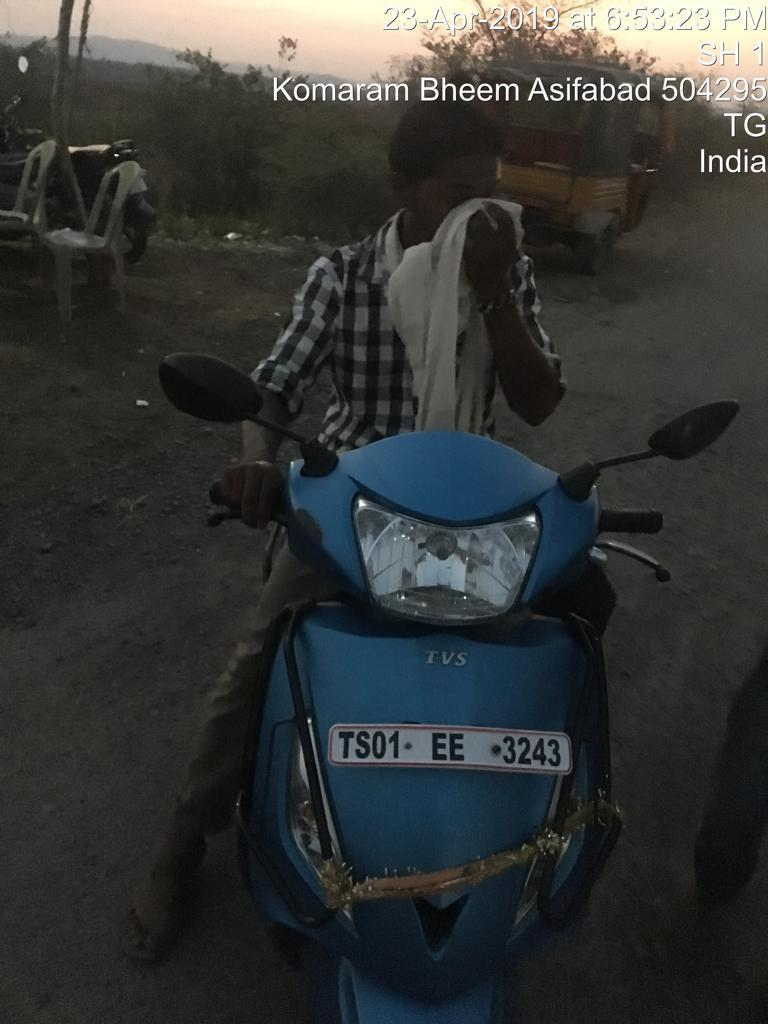plate: (314, 688, 581, 793)
